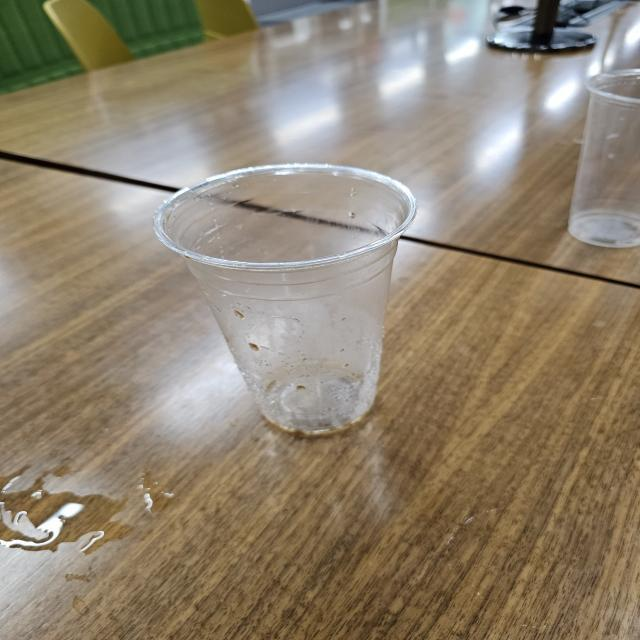cup: (148, 154, 418, 448)
